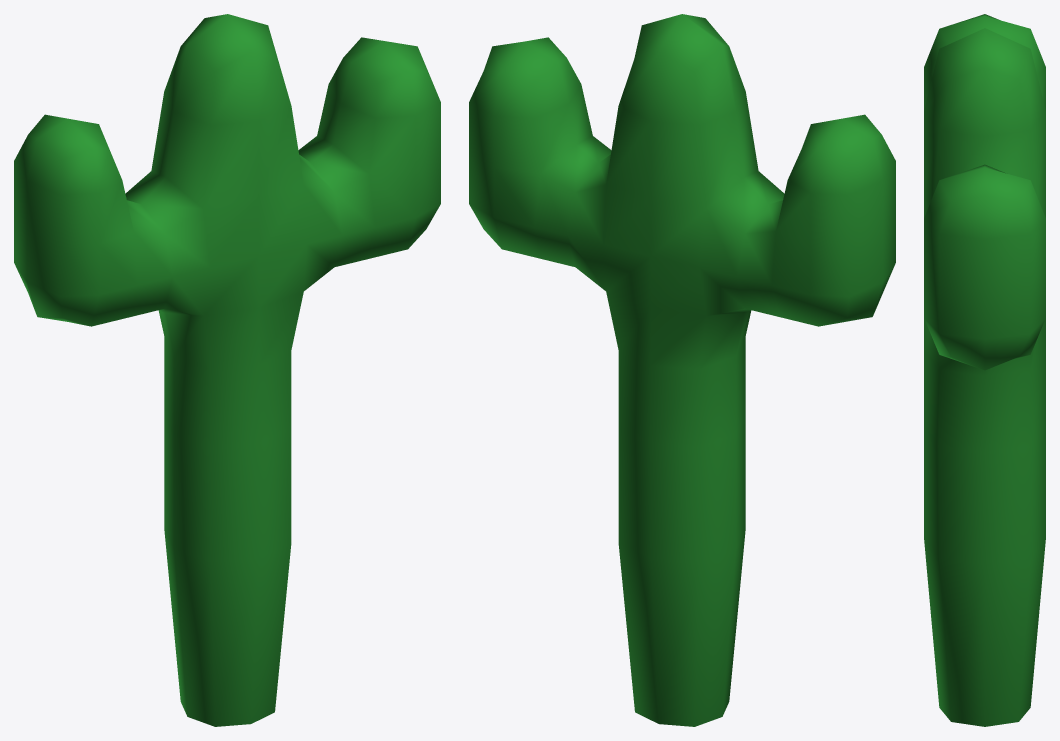
File: Cactus1.fbx
The picture shows the model from 3 angles, left to right: view 1: azimuth 30°, elevation 25°; view 2: azimuth 150°, elevation 25°; view 3: azimuth 270°, elevation 25°; orthographic projection.
Visible parts, largest first — view 1: pCube3; view 2: pCube3; view 3: pCube3.
Boxes of the visible parts, bbox=[...] form: pCube3: bbox=[14, 14, 440, 726]; pCube3: bbox=[469, 14, 895, 726]; pCube3: bbox=[924, 14, 1045, 726].
Bounding box in the file's own units: 37.33 × 61.56 × 10.
